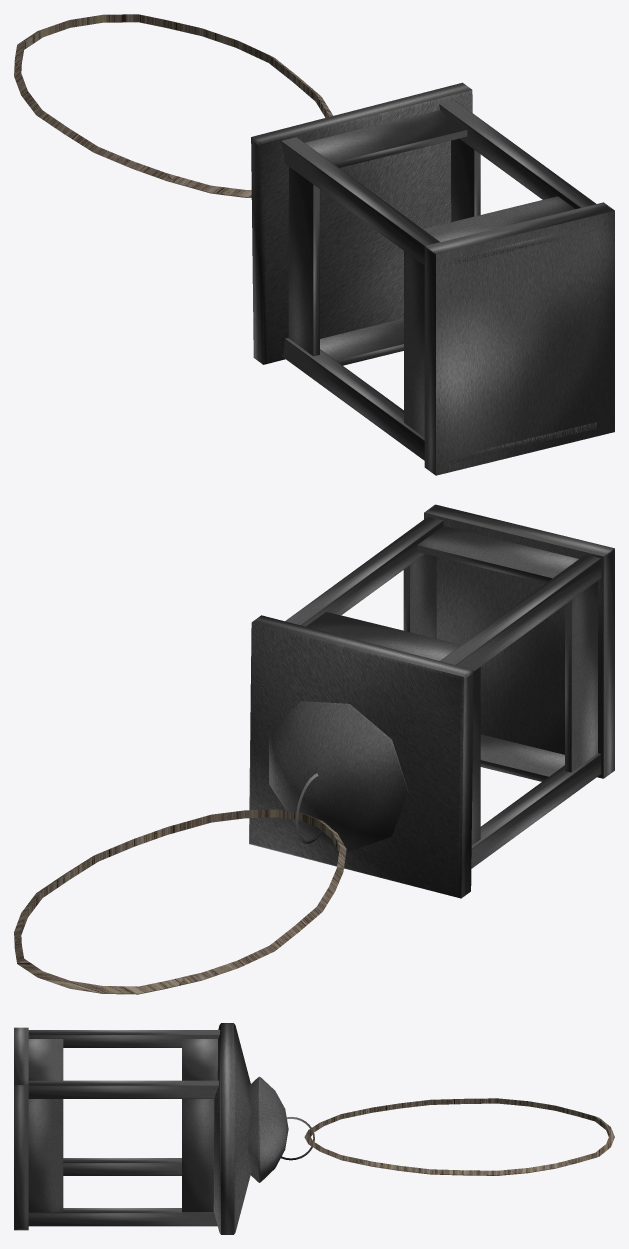
Rendered from lantern_rope.FBX.
3 views of the same model, one above another, from view 1: azimuth 30°, elevation 25°; view 2: azimuth 150°, elevation 25°; view 3: azimuth 270°, elevation 25° (orthographic). The views are drawn at different scales.
Parts seen in each view (by area): view 1: Box015, OilTank004, Box025, Ellipse001, Box019, Box026, Box018, Box016, Box021, Box023, Box024, Box027 (+1 smaller); view 2: OilTank004, Box015, OilTank003, Ellipse001, Box021, Box019, Box023, Box016, Box018, Box026, Box022, Box020 (+1 smaller); view 3: OilTank004, Box020, Ellipse001, Box027, Box016, Box017, OilTank003, Box015, Box019, Box018, Box023, Box026.
Part boxes in pixels (box(x1,y1,x2,y2)): Box015: box(424, 202, 614, 475); OilTank004: box(251, 82, 472, 364); Box025: box(288, 167, 319, 356); Ellipse001: box(14, 14, 333, 197); Box019: box(281, 137, 439, 265); Box026: box(305, 110, 467, 167); Box018: box(282, 338, 424, 460); Box016: box(439, 100, 595, 208); Box021: box(404, 251, 424, 437); Box023: box(423, 196, 596, 264); Box024: box(320, 318, 403, 365); Box027: box(451, 139, 480, 221); OilTank004: box(249, 615, 473, 898); Box015: box(424, 504, 614, 778); OilTank003: box(269, 701, 408, 851); Ellipse001: box(14, 809, 346, 994); Box021: box(565, 581, 597, 772); Box019: box(440, 554, 601, 671); Box023: box(417, 526, 578, 583); Box016: box(285, 517, 443, 626); Box018: box(471, 753, 601, 868); Box026: box(306, 612, 461, 660); Box022: box(480, 734, 564, 781); Box020: box(403, 554, 436, 638); OilTank004: box(213, 1023, 251, 1234); Box020: box(28, 1099, 63, 1212); Ellipse001: box(304, 1098, 614, 1175); Box027: box(182, 1099, 214, 1212); Box016: box(28, 1080, 218, 1098); Box017: box(28, 1208, 217, 1226); OilTank003: box(248, 1076, 288, 1182); Box015: box(14, 1027, 28, 1230); Box019: box(28, 1030, 220, 1047); Box018: box(63, 1158, 181, 1175); Box023: box(28, 1039, 63, 1080); Box026: box(182, 1039, 217, 1080).
Size of the model in its own units: 1.86 by 1.67 by 6.19.
Materials: 2 (2 with a texture image).
